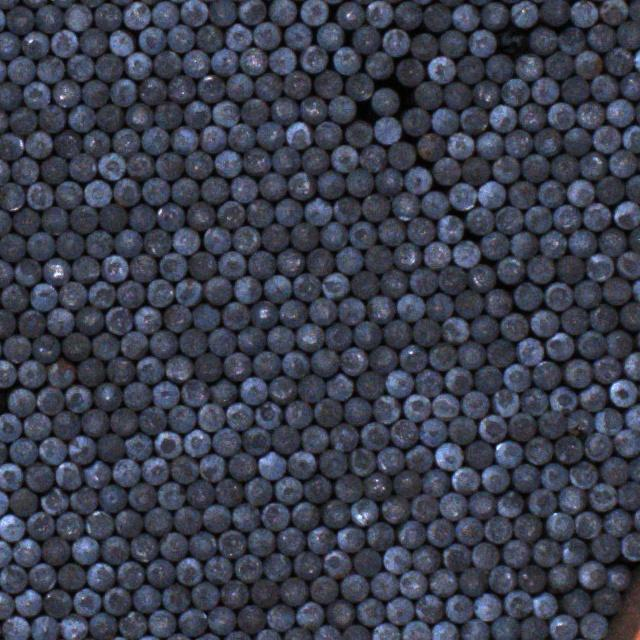tool: (512, 512, 542, 542), (85, 510, 114, 540), (212, 426, 242, 455), (161, 582, 190, 612), (24, 463, 54, 492), (142, 507, 172, 536), (159, 530, 188, 560), (526, 488, 556, 517), (168, 453, 198, 482), (86, 560, 115, 590), (598, 456, 628, 485), (574, 331, 604, 360), (546, 564, 576, 593), (26, 563, 55, 592), (43, 588, 72, 617), (507, 411, 536, 440), (36, 385, 65, 414), (238, 375, 267, 404), (333, 473, 362, 502), (147, 557, 176, 586), (194, 352, 223, 381), (267, 375, 296, 404), (149, 330, 178, 359), (329, 423, 358, 452), (513, 280, 542, 309), (317, 448, 346, 477), (206, 327, 235, 356), (184, 480, 213, 509), (270, 423, 299, 452), (559, 305, 588, 334), (561, 359, 590, 388), (583, 431, 612, 460), (47, 359, 76, 388), (100, 587, 130, 615), (8, 488, 38, 516), (590, 532, 618, 562), (60, 333, 90, 361), (230, 503, 260, 531), (464, 441, 494, 469), (530, 538, 560, 566), (591, 586, 621, 614), (593, 354, 621, 384), (119, 610, 147, 640), (188, 531, 216, 560), (196, 402, 224, 431), (202, 554, 230, 583), (468, 491, 496, 520), (188, 251, 216, 280), (76, 357, 105, 385), (26, 512, 54, 541), (18, 359, 47, 387), (41, 206, 69, 235), (92, 382, 121, 410), (608, 149, 636, 178), (55, 512, 83, 541), (67, 435, 95, 464), (275, 527, 304, 555), (381, 319, 410, 347), (532, 359, 560, 388), (277, 300, 306, 328), (99, 535, 128, 563), (110, 408, 139, 436), (515, 337, 543, 366), (40, 536, 69, 564), (13, 538, 41, 567), (309, 347, 338, 375), (524, 437, 552, 466), (116, 560, 145, 588), (245, 476, 273, 505), (169, 125, 197, 154), (320, 220, 348, 249), (606, 98, 635, 126), (587, 482, 615, 511), (372, 395, 400, 424), (202, 275, 231, 303), (477, 415, 506, 443), (593, 406, 622, 434), (544, 51, 573, 79), (81, 408, 109, 437), (70, 485, 98, 514), (123, 381, 151, 410), (160, 251, 188, 280), (129, 533, 157, 562), (502, 590, 531, 618), (295, 322, 324, 350), (453, 290, 481, 319), (22, 411, 51, 439), (456, 341, 484, 370), (263, 274, 292, 302), (190, 302, 219, 330), (358, 423, 387, 451), (380, 495, 409, 523), (130, 254, 158, 283), (6, 388, 34, 417), (97, 483, 126, 511), (447, 415, 475, 444), (559, 76, 588, 104), (218, 251, 247, 279), (172, 506, 201, 534), (544, 280, 572, 309), (603, 46, 632, 74), (215, 479, 244, 507), (163, 304, 192, 332), (517, 565, 545, 594), (157, 480, 185, 509), (302, 474, 331, 502), (606, 329, 634, 358), (166, 404, 195, 432), (553, 435, 582, 463), (52, 410, 80, 439), (7, 437, 36, 465), (545, 513, 574, 541), (116, 280, 145, 308), (105, 356, 134, 384), (261, 501, 289, 530), (322, 500, 351, 528), (104, 305, 132, 334), (209, 377, 237, 406), (134, 356, 163, 384), (556, 486, 585, 514), (151, 379, 180, 407), (224, 350, 252, 379), (292, 501, 320, 530), (198, 453, 226, 482), (112, 457, 141, 485), (528, 25, 556, 54), (574, 50, 602, 79), (560, 587, 589, 615), (578, 613, 608, 640), (0, 563, 27, 593), (285, 450, 315, 477), (271, 146, 299, 174), (374, 115, 402, 143), (238, 46, 266, 74), (492, 156, 520, 184), (496, 206, 524, 234), (450, 4, 478, 32), (252, 22, 280, 50), (340, 572, 368, 600), (256, 122, 284, 150), (534, 128, 562, 156), (334, 246, 362, 274), (293, 552, 321, 580), (349, 271, 377, 299), (374, 168, 402, 196), (206, 605, 234, 633), (220, 580, 248, 608), (468, 28, 496, 56), (509, 232, 537, 260), (582, 202, 610, 230), (293, 272, 321, 300), (52, 80, 80, 108), (308, 297, 336, 325), (501, 77, 529, 105), (156, 202, 184, 230), (592, 124, 620, 152), (503, 363, 531, 391), (70, 205, 98, 233), (46, 308, 74, 336), (180, 378, 208, 406), (352, 548, 380, 576), (366, 294, 394, 322), (411, 546, 439, 574), (253, 351, 281, 379), (29, 282, 57, 310), (502, 539, 530, 567), (588, 304, 616, 332), (438, 492, 466, 520), (608, 379, 636, 407), (470, 314, 498, 342), (326, 599, 354, 627), (138, 407, 166, 435), (170, 176, 198, 204), (78, 27, 106, 55), (236, 325, 264, 353), (31, 335, 59, 363), (233, 274, 261, 302), (285, 400, 313, 428), (406, 217, 434, 245), (297, 374, 325, 402), (414, 593, 442, 621), (4, 334, 32, 362), (187, 201, 215, 229), (132, 584, 160, 612), (411, 318, 439, 346), (88, 612, 116, 640), (486, 338, 514, 366), (520, 154, 548, 182), (252, 578, 280, 606), (397, 519, 425, 547), (495, 441, 523, 469), (178, 327, 206, 355), (246, 200, 274, 228), (112, 228, 140, 256), (18, 308, 46, 336), (585, 254, 613, 282), (568, 228, 596, 256), (275, 247, 303, 275), (444, 593, 472, 621), (404, 445, 432, 473), (124, 432, 152, 460), (305, 248, 333, 276), (442, 542, 470, 570), (250, 300, 278, 328), (58, 280, 86, 308), (392, 470, 420, 498), (458, 567, 486, 595), (220, 302, 248, 330), (519, 388, 547, 416), (574, 280, 602, 308), (352, 320, 380, 348), (140, 455, 168, 483), (538, 410, 566, 438), (550, 154, 578, 182), (599, 228, 627, 256), (312, 398, 340, 426), (484, 288, 512, 316), (74, 306, 102, 334), (236, 604, 264, 632), (413, 82, 441, 110), (278, 578, 306, 606), (499, 313, 527, 341), (144, 228, 172, 256), (34, 4, 62, 32), (488, 104, 516, 132), (228, 451, 256, 479), (438, 265, 466, 293), (439, 28, 467, 56), (202, 503, 230, 531), (262, 552, 290, 580), (248, 526, 276, 554), (474, 593, 502, 621), (178, 607, 206, 635), (280, 348, 308, 376), (72, 535, 100, 563), (562, 128, 590, 156), (192, 582, 220, 610), (147, 608, 175, 636), (41, 486, 69, 514), (364, 472, 392, 500), (128, 482, 156, 510), (587, 24, 615, 52), (604, 509, 632, 537), (604, 275, 632, 303), (384, 369, 412, 397), (300, 426, 328, 454), (88, 279, 116, 307), (258, 450, 286, 478), (435, 442, 463, 470), (266, 326, 294, 354), (454, 516, 482, 544), (241, 427, 269, 455), (72, 587, 100, 615), (90, 332, 118, 360), (398, 343, 426, 371), (511, 464, 539, 492), (568, 461, 596, 489), (414, 368, 442, 396), (218, 528, 246, 556), (133, 305, 161, 333), (474, 364, 502, 392), (366, 521, 394, 549), (39, 436, 67, 464), (342, 397, 370, 425), (113, 510, 141, 538), (174, 557, 202, 585), (326, 372, 354, 400), (57, 561, 85, 589), (472, 79, 500, 107), (546, 333, 574, 361), (362, 245, 390, 273), (574, 510, 602, 538), (273, 476, 301, 504), (382, 546, 410, 574), (63, 384, 91, 412), (349, 498, 377, 526), (296, 601, 324, 629), (184, 429, 212, 457), (491, 388, 519, 416), (458, 104, 486, 132), (481, 464, 509, 492), (83, 459, 111, 487), (173, 276, 201, 304), (578, 559, 606, 587), (578, 384, 606, 412), (255, 401, 283, 429), (97, 434, 125, 462), (291, 222, 318, 251), (395, 292, 422, 321), (322, 550, 349, 579), (316, 169, 343, 198), (58, 613, 87, 640), (613, 429, 640, 458), (379, 268, 406, 297), (485, 53, 512, 82), (9, 105, 36, 134), (487, 565, 514, 594), (443, 81, 470, 110), (234, 553, 261, 582), (164, 353, 193, 380), (448, 181, 475, 209), (226, 72, 253, 100), (480, 232, 508, 259), (68, 154, 95, 182), (200, 176, 227, 204), (228, 124, 255, 152), (94, 54, 121, 82), (613, 200, 640, 228), (480, 1, 508, 28), (426, 57, 454, 84), (110, 78, 137, 106), (455, 56, 482, 84), (524, 255, 552, 282), (154, 50, 181, 78), (391, 420, 418, 448), (282, 72, 309, 100), (466, 207, 494, 234), (85, 230, 112, 258), (259, 172, 286, 200), (337, 0, 364, 28), (288, 172, 315, 200), (392, 190, 419, 218), (24, 130, 51, 158), (394, 1, 422, 28), (63, 4, 90, 32), (517, 103, 544, 131), (214, 149, 242, 176), (83, 128, 110, 156), (347, 220, 374, 248), (556, 255, 584, 282), (524, 205, 551, 233), (55, 232, 83, 259), (382, 28, 409, 56), (98, 204, 126, 231), (23, 82, 50, 110), (476, 180, 504, 207), (445, 366, 472, 394), (317, 70, 344, 98), (387, 140, 414, 168), (120, 331, 148, 358), (226, 402, 253, 430), (198, 74, 225, 102), (553, 204, 580, 232), (308, 575, 336, 602), (340, 346, 367, 374), (594, 176, 622, 203), (96, 102, 123, 130), (471, 540, 498, 568), (377, 446, 404, 474), (270, 96, 297, 124), (403, 393, 431, 420), (7, 6, 34, 34), (427, 517, 454, 545), (332, 196, 360, 223), (508, 181, 535, 209), (184, 100, 211, 128), (54, 180, 82, 207), (425, 4, 452, 32), (429, 342, 456, 370), (255, 72, 282, 100), (484, 516, 512, 543), (261, 224, 288, 252), (430, 569, 457, 597), (317, 23, 344, 51), (14, 258, 41, 286), (510, 0, 538, 27), (514, 53, 542, 80), (566, 180, 594, 207), (576, 100, 604, 127), (399, 569, 426, 597), (540, 462, 568, 489), (536, 179, 564, 206), (461, 157, 488, 185), (357, 597, 384, 625), (394, 242, 421, 270), (99, 255, 127, 282), (354, 371, 382, 398), (72, 255, 100, 282), (385, 597, 413, 624), (306, 526, 334, 553), (352, 26, 380, 53), (422, 240, 449, 268), (322, 271, 350, 298), (496, 255, 523, 283), (371, 570, 398, 598), (460, 391, 488, 418), (147, 278, 174, 306), (367, 52, 395, 79), (408, 267, 436, 294), (154, 431, 182, 458), (325, 323, 352, 351), (372, 87, 399, 115), (377, 218, 404, 246), (303, 197, 331, 224), (232, 227, 260, 254), (451, 465, 478, 493), (410, 494, 437, 522), (505, 128, 532, 156), (442, 316, 469, 344), (557, 26, 584, 54), (424, 292, 451, 320), (347, 447, 374, 475), (590, 74, 617, 102), (452, 240, 479, 268), (249, 252, 276, 280), (55, 462, 82, 490), (418, 417, 445, 445), (419, 190, 446, 218), (14, 588, 42, 615), (529, 308, 557, 335), (466, 264, 493, 292), (422, 469, 450, 496), (369, 346, 397, 373), (496, 488, 523, 516), (432, 394, 460, 421), (549, 385, 577, 412), (565, 409, 592, 437), (548, 614, 577, 640), (580, 151, 606, 180), (336, 524, 365, 550), (125, 53, 152, 80), (167, 76, 194, 103), (301, 97, 328, 124), (172, 228, 199, 255), (185, 152, 212, 179), (433, 158, 460, 185), (82, 80, 109, 107), (8, 57, 35, 84), (27, 233, 54, 260), (152, 0, 179, 27), (95, 4, 122, 31), (366, 0, 393, 27), (166, 24, 193, 51), (125, 103, 152, 130), (218, 201, 245, 228), (571, 0, 598, 27), (65, 54, 92, 81), (345, 169, 372, 196), (35, 55, 62, 82), (476, 132, 503, 159), (329, 96, 356, 123), (405, 167, 432, 194), (313, 122, 340, 149), (547, 101, 574, 128), (41, 156, 68, 183), (266, 603, 293, 630), (345, 120, 372, 147), (359, 144, 386, 171), (530, 76, 557, 103), (274, 199, 301, 226), (338, 296, 365, 323), (398, 58, 425, 85), (142, 176, 168, 204), (432, 108, 458, 136), (332, 144, 358, 172), (284, 122, 310, 150), (138, 26, 164, 54), (38, 104, 64, 132), (141, 127, 167, 155), (114, 177, 140, 205), (302, 44, 328, 72), (348, 72, 374, 100), (182, 50, 208, 78), (13, 207, 39, 235), (336, 46, 362, 74), (540, 230, 566, 258), (403, 108, 429, 136), (363, 194, 389, 222), (531, 590, 557, 618), (560, 538, 586, 566), (540, 0, 569, 25), (181, 0, 208, 26), (84, 180, 110, 207), (69, 104, 95, 131), (156, 153, 182, 180), (210, 49, 236, 76), (97, 154, 124, 180), (242, 147, 268, 174), (199, 126, 225, 153), (225, 23, 251, 50), (155, 102, 182, 128), (52, 30, 78, 57), (0, 283, 26, 310), (128, 203, 154, 230), (446, 132, 472, 159), (113, 129, 139, 156), (138, 76, 164, 103), (196, 24, 222, 51), (269, 47, 295, 74), (411, 31, 437, 58), (54, 130, 80, 157), (240, 98, 266, 125), (302, 146, 328, 173), (42, 257, 68, 284), (230, 174, 256, 201), (12, 158, 38, 185), (285, 24, 311, 51), (438, 215, 464, 242), (127, 152, 154, 178), (418, 133, 444, 160), (109, 28, 135, 55), (203, 227, 229, 254), (124, 0, 149, 28), (0, 513, 25, 541), (616, 19, 640, 48), (213, 100, 239, 126), (21, 32, 47, 58), (26, 182, 52, 208), (606, 563, 632, 589), (303, 0, 330, 25), (270, 0, 297, 25), (616, 252, 640, 280), (0, 232, 24, 260), (238, 0, 266, 24), (492, 616, 520, 640), (29, 616, 57, 640), (597, 0, 626, 23), (207, 0, 234, 24), (0, 616, 27, 640), (519, 616, 546, 640), (0, 461, 23, 489), (617, 481, 640, 509), (0, 181, 22, 209), (619, 302, 640, 331), (0, 412, 21, 441), (0, 82, 21, 110), (619, 72, 640, 100), (0, 131, 21, 158), (462, 619, 489, 640), (620, 532, 640, 560), (402, 620, 430, 640), (621, 125, 640, 153), (0, 32, 19, 59), (432, 621, 459, 640), (372, 622, 400, 640), (623, 351, 640, 380), (0, 359, 16, 387), (625, 172, 640, 201), (0, 308, 15, 336), (625, 403, 640, 430), (342, 625, 369, 640), (314, 625, 340, 640), (0, 589, 13, 617), (0, 259, 13, 287), (283, 627, 310, 640), (628, 224, 640, 253), (0, 539, 12, 567), (628, 455, 640, 483), (255, 628, 282, 640), (0, 209, 11, 236), (224, 630, 252, 640), (0, 158, 9, 186), (0, 489, 9, 516), (631, 274, 640, 301), (628, 0, 639, 22), (194, 632, 222, 640), (632, 507, 640, 534), (164, 633, 193, 640), (0, 108, 7, 136), (21, 0, 49, 7), (633, 46, 640, 74), (0, 439, 7, 466), (51, 0, 77, 7), (134, 634, 163, 640), (634, 326, 640, 354), (78, 0, 105, 6), (102, 634, 129, 640), (436, 0, 467, 5), (635, 95, 640, 126), (105, 0, 134, 5), (0, 0, 17, 8), (0, 58, 5, 84), (0, 7, 5, 32)
tool_b: (495, 26, 530, 54)
